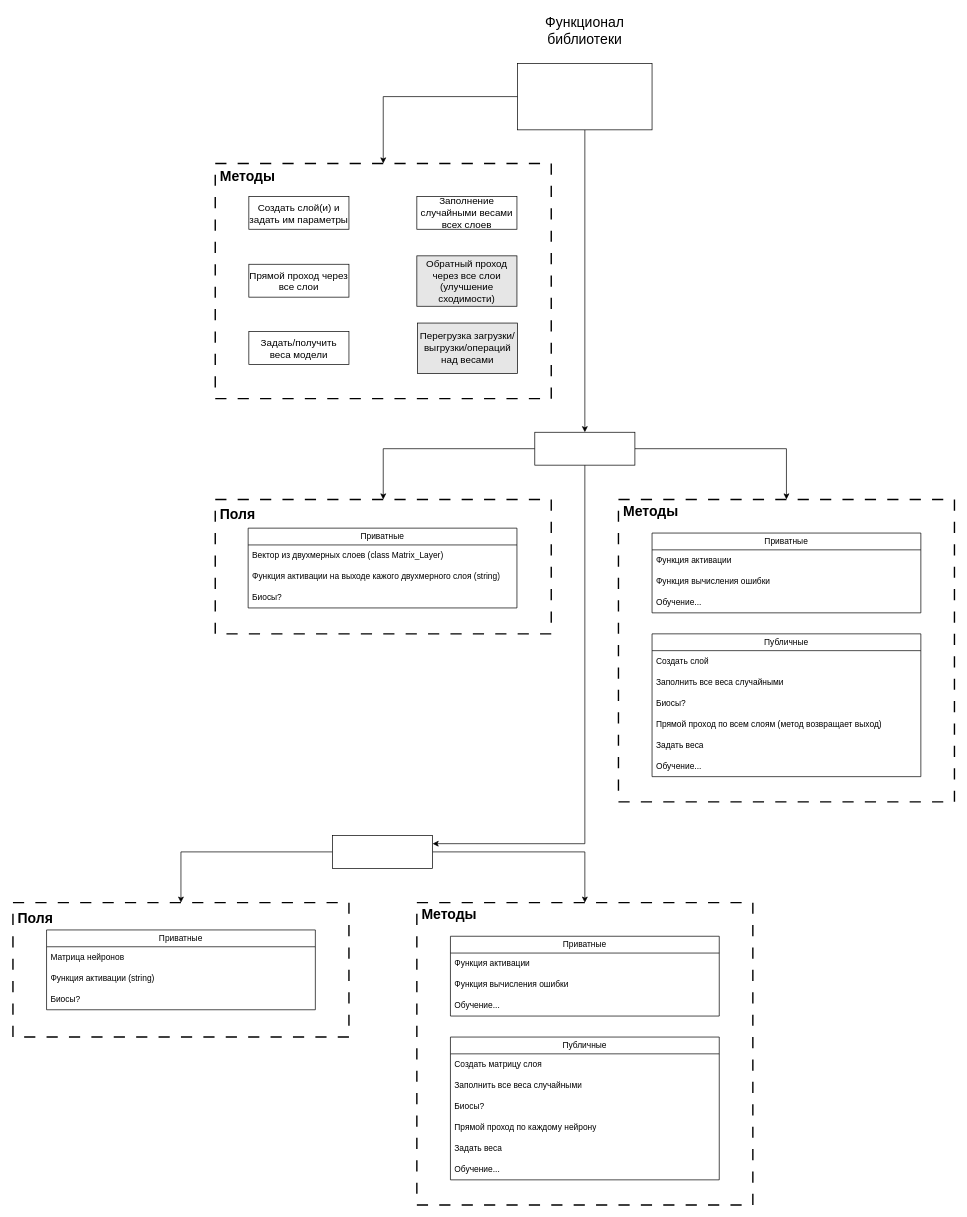
Image size: 967x1217. Some labels were removed from this diagram. The box of each missing label's shape, as (x1, y1, x2, y2) in pixels:
class Matrix_Layer: (332, 835, 433, 868)
Абстрактный класс-интерфейс class MLP: (517, 63, 652, 130)
Реализация class MLP_Network: (534, 432, 635, 465)
